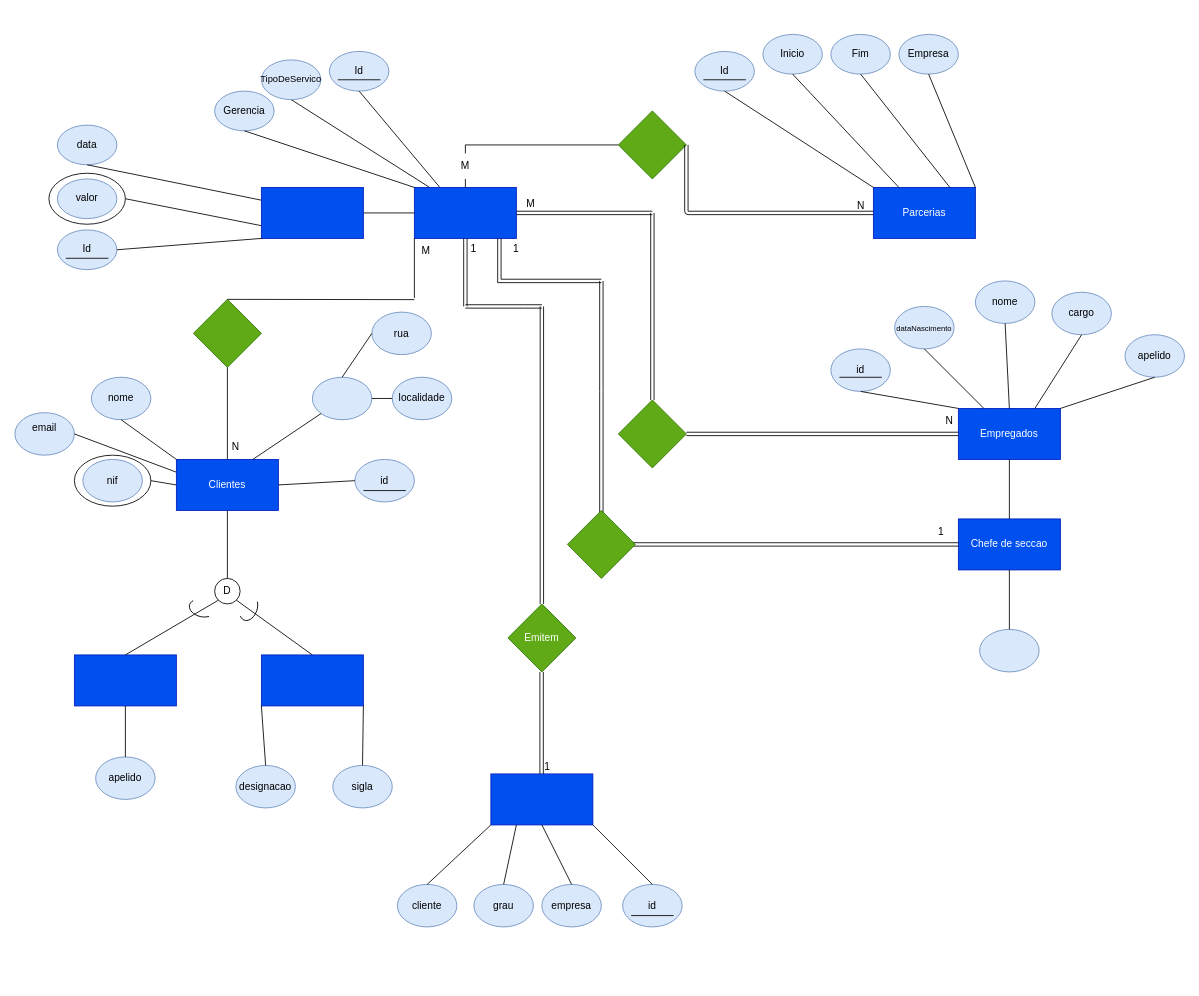
This 1199x996 diagram has some shape labels left out. Here are the shapes that lost their labels. From the top down, the centre of each, then its label:
the point at 652,144: Contribuir
the point at 312,212: Servico Contratado
the point at 465,212: Servico
the point at 227,333: contratam
the point at 342,398: morada
the point at 652,433: Realizam
the point at 601,544: Gerir
the point at 1009,650: seccao
the point at 125,680: Particular
the point at 312,680: ClientesEmpresas
the point at 541,799: CertAtribuidos
